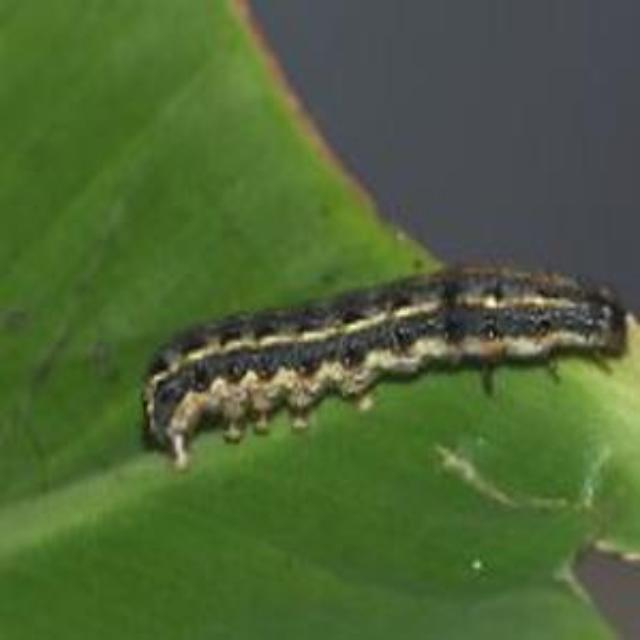Tobacco cutworm: (88, 178, 640, 510)
